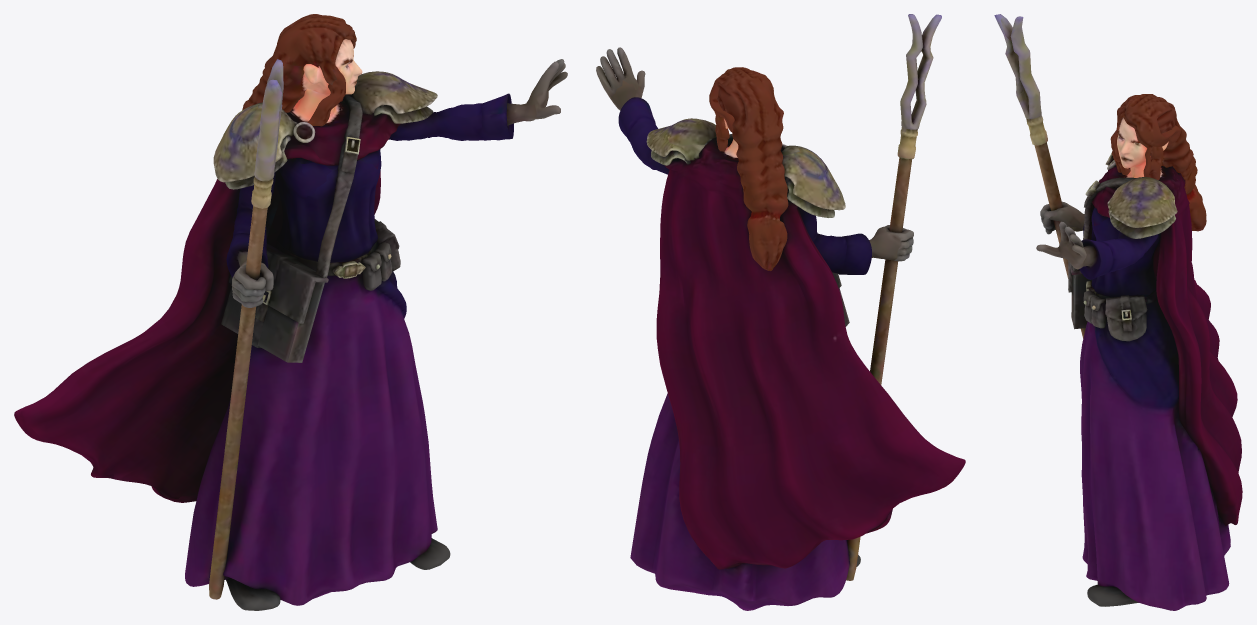
Rendered from MZ4250 - Human Female Abjuration Wizard_2.glb.
The picture shows the model from 3 angles, left to right: view 1: azimuth 30°, elevation 25°; view 2: azimuth 150°, elevation 25°; view 3: azimuth 270°, elevation 25°; orthographic projection. The views are drawn at different scales.
Parts seen in each view (by area): view 1: Cube.002; view 2: Cube.002; view 3: Cube.002.
Boxes of the visible parts, x1,y1,x2,y2 form: Cube.002: (14, 14, 567, 610); Cube.002: (596, 14, 965, 610); Cube.002: (994, 14, 1242, 610).
Size of the model in its own units: 82.16 by 98.91 by 42.75.
1 material, 1 textured.
